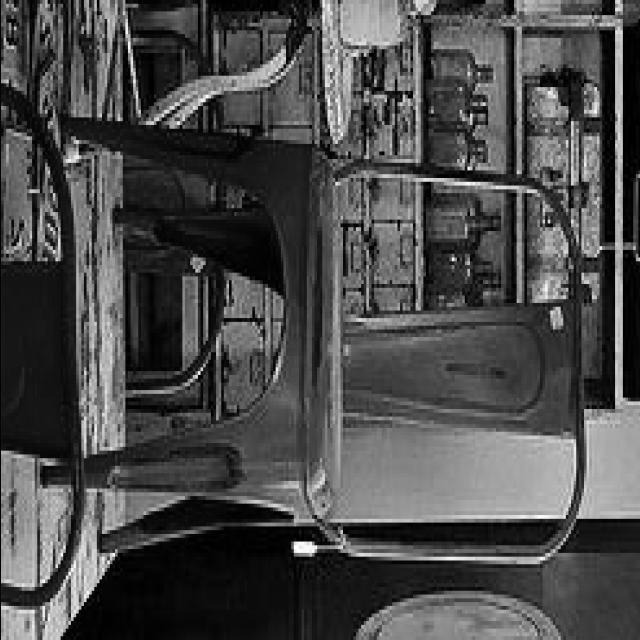chair: (57, 113, 589, 581)
